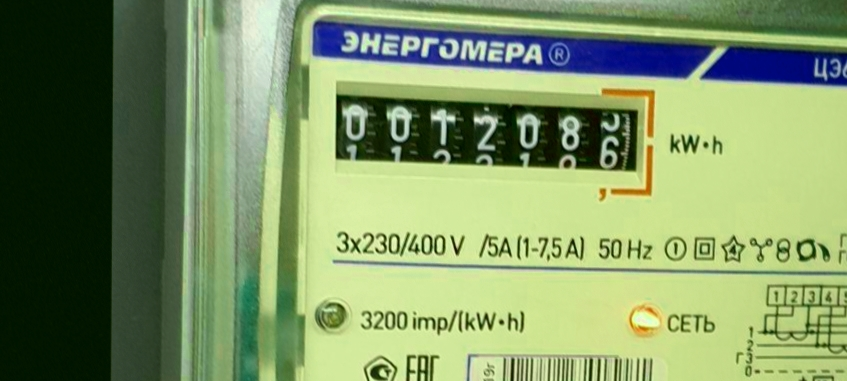0: (386, 102, 414, 144), (343, 100, 367, 142), (517, 111, 540, 150)
1: (431, 105, 453, 146)
2: (474, 113, 499, 152)
6: (596, 133, 620, 169)
8: (559, 112, 581, 152)
screen: (325, 68, 665, 209)
